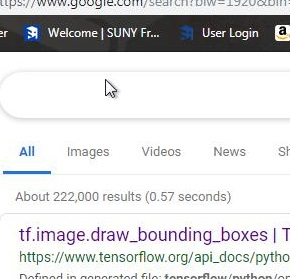cursor: (104, 77, 118, 98)
